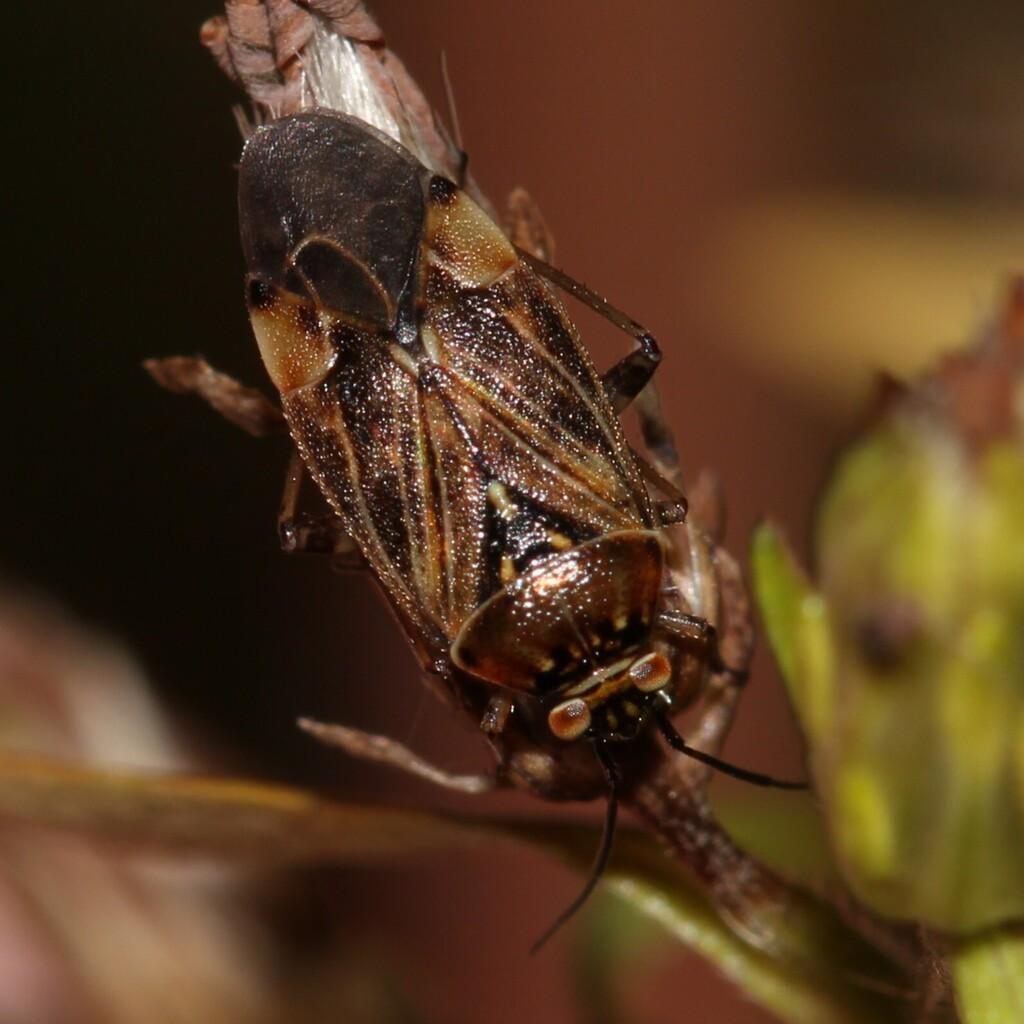plant_bugs: (75, 0, 889, 1003)
